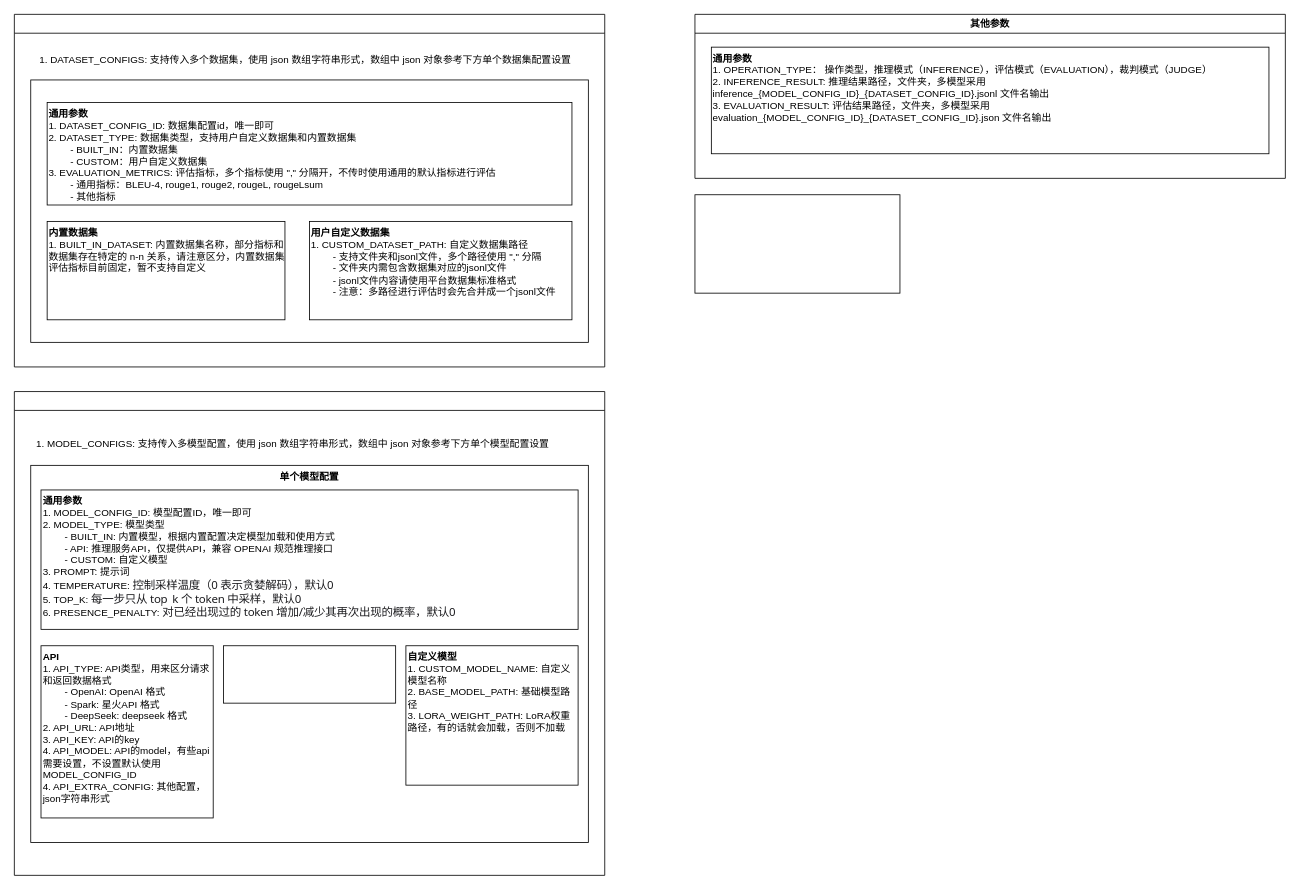
This 1300x890 diagram has some shape labels left out. The shapes that lost their labels are listed below. From the top down, each one's box as (x1, y1, x2, y2) in pixels, then its label:
(30, 79, 588, 342): 单个数据集配置
(14, 14, 605, 367): 数据集相关参数
(694, 194, 900, 293): 数据集jsonl内容格式 { "input": "问题", "target": "回答", "think": "部分数据集含此字段" }
(14, 391, 605, 875): 模型相关参数
(223, 645, 396, 703): 内置模型 1. BUILD_IN_MODEL_NAME: 内置模型名称
